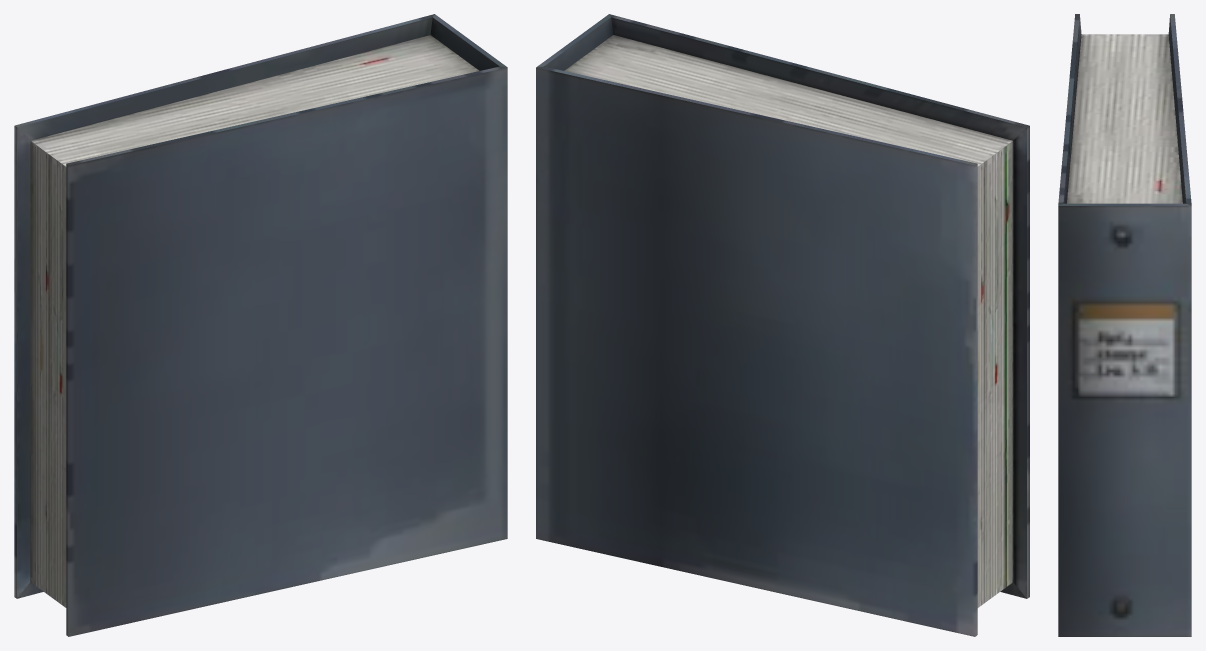
3 views of the same model, side by side, from view 1: azimuth 30°, elevation 25°; view 2: azimuth 150°, elevation 25°; view 3: azimuth 270°, elevation 25° (orthographic). The views are drawn at different scales.
Visible parts, largest first — view 1: body0_model0_lod0_mesh0; view 2: body0_model0_lod0_mesh0; view 3: body0_model0_lod0_mesh0.
Boxes of the visible parts, box(x1,y1,x2,y2) form: body0_model0_lod0_mesh0: box(14, 14, 507, 636); body0_model0_lod0_mesh0: box(536, 14, 1029, 636); body0_model0_lod0_mesh0: box(1058, 14, 1191, 636).
Size of the model in its own units: 13.39 by 14.04 by 3.94.
Materials: 1 (1 with a texture image).
